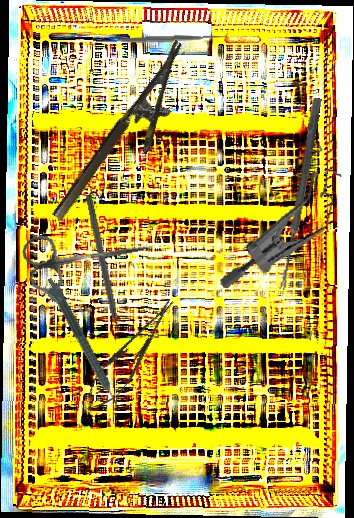Handpiece: (39, 276, 122, 410)
Hook Surgical: (83, 193, 124, 344)
Iris Scissors: (19, 216, 160, 296)
Needle Holder: (50, 39, 211, 239), (76, 290, 185, 421)
Spatula Surgical: (91, 29, 229, 50)
Speculum: (217, 127, 350, 310)
Surgical Spoon: (278, 97, 322, 291)
